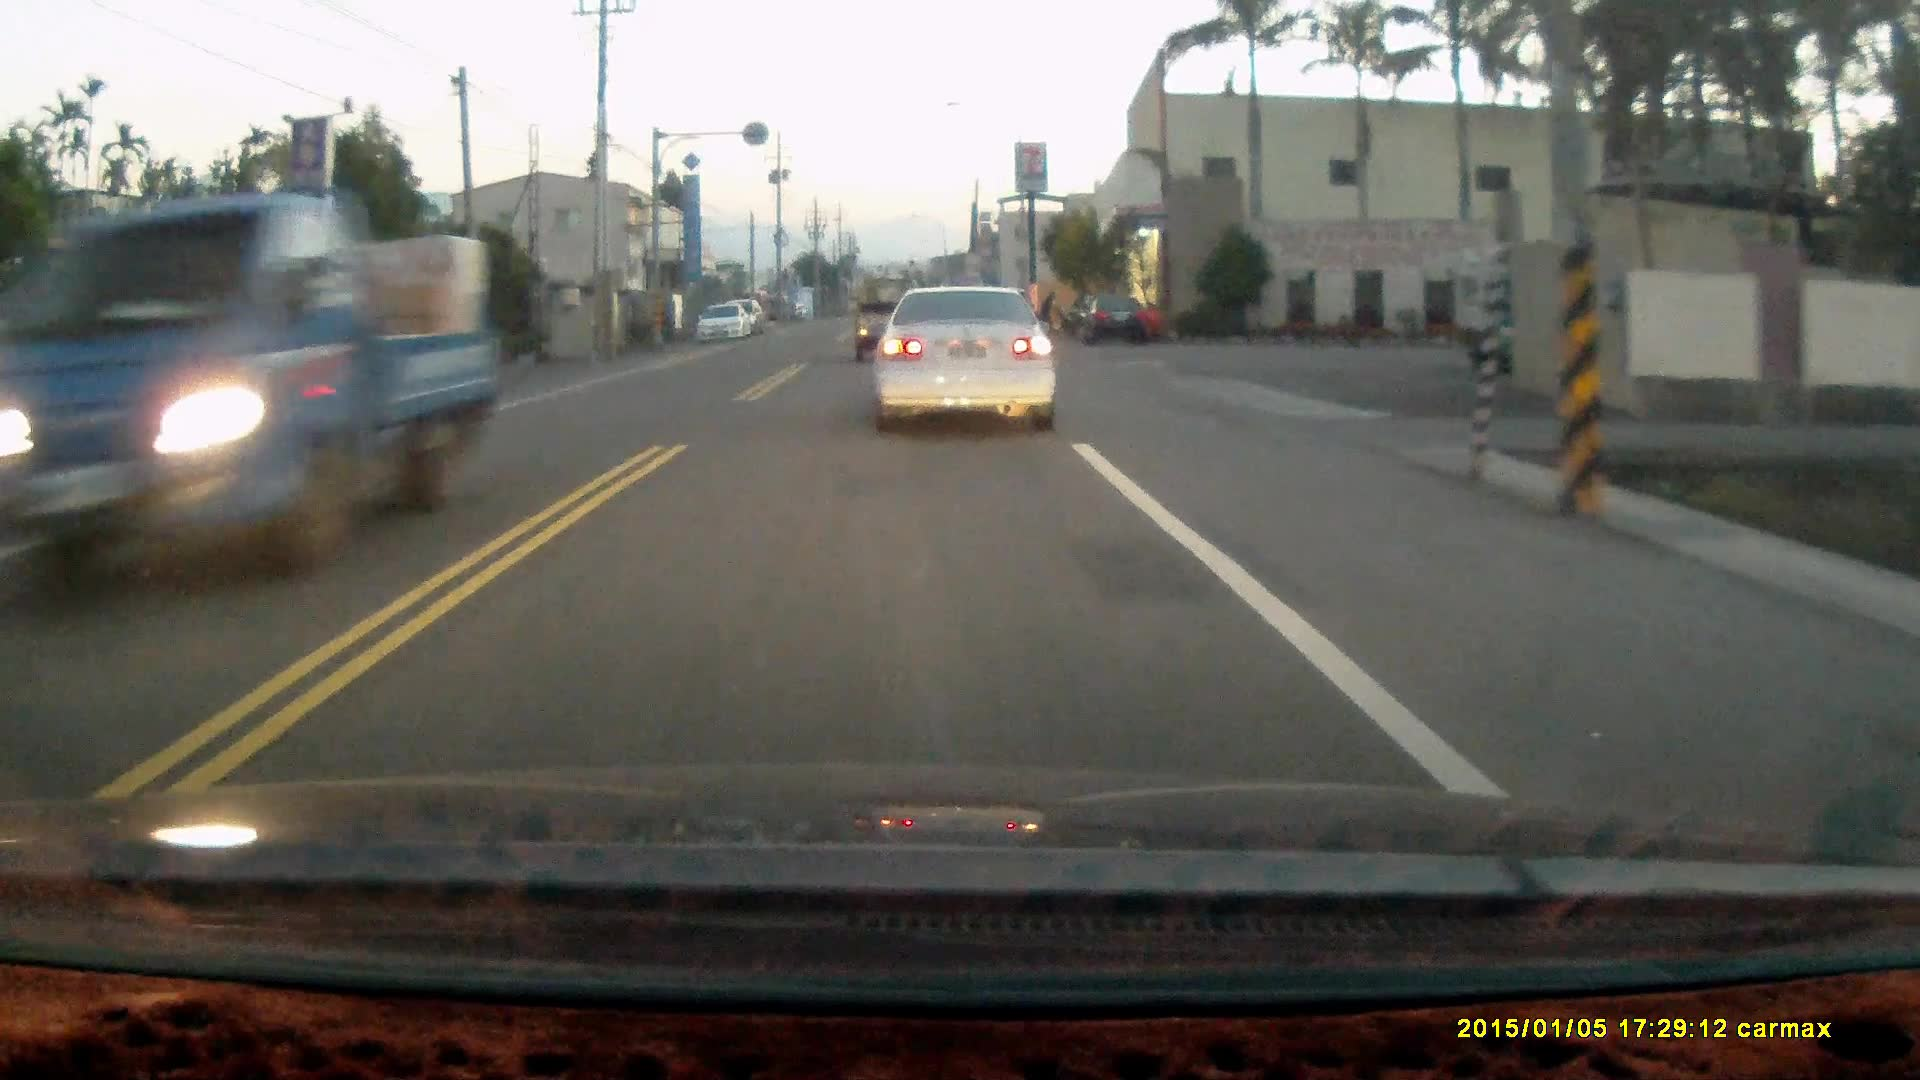rider: (1031, 288, 1075, 338)
vehicle: (33, 190, 486, 597), (880, 282, 1064, 434), (855, 275, 929, 363), (1077, 284, 1147, 340), (701, 305, 751, 346)
